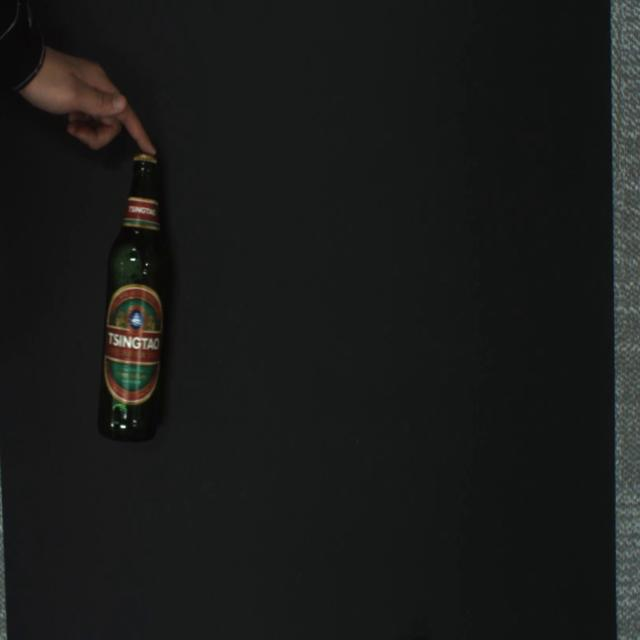beer-bottle: (96, 152, 170, 443)
